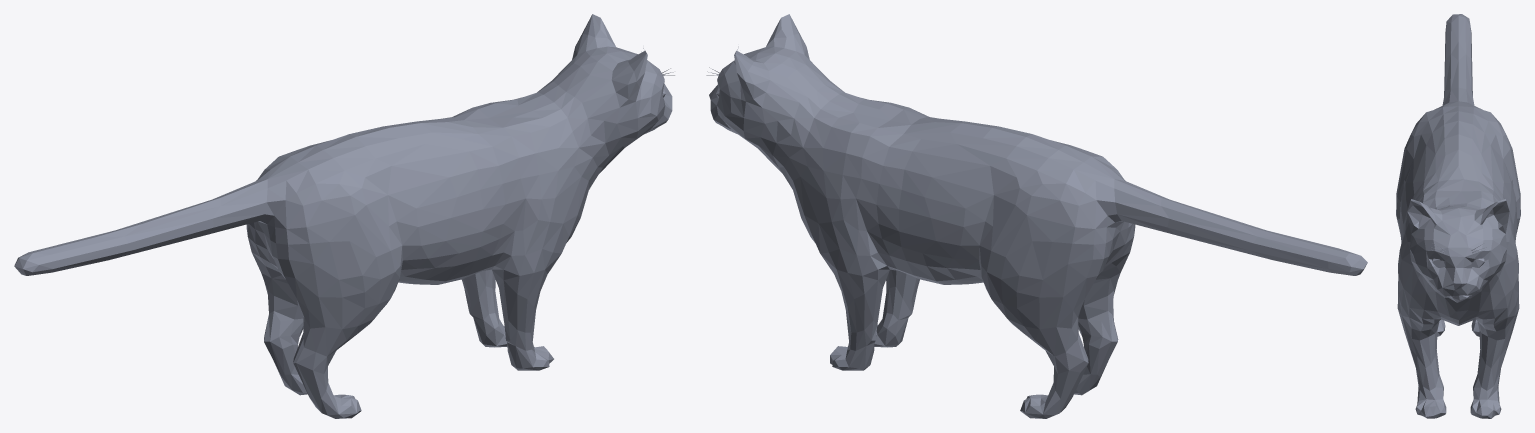
File: kucing warna.fbx
3 views of the same model, side by side, from view 1: azimuth 30°, elevation 25°; view 2: azimuth 150°, elevation 25°; view 3: azimuth 270°, elevation 25° (orthographic). The views are drawn at different scales.
Visible parts, largest first — view 1: grp1.001; view 2: grp1.001; view 3: grp1.001.
Part boxes in pixels (x1,y1,x2,y2): grp1.001: (14,14,674,418); grp1.001: (706,14,1367,418); grp1.001: (1396,14,1520,418).
Bounding box in the file's own units: 281 × 122 × 53.18.
